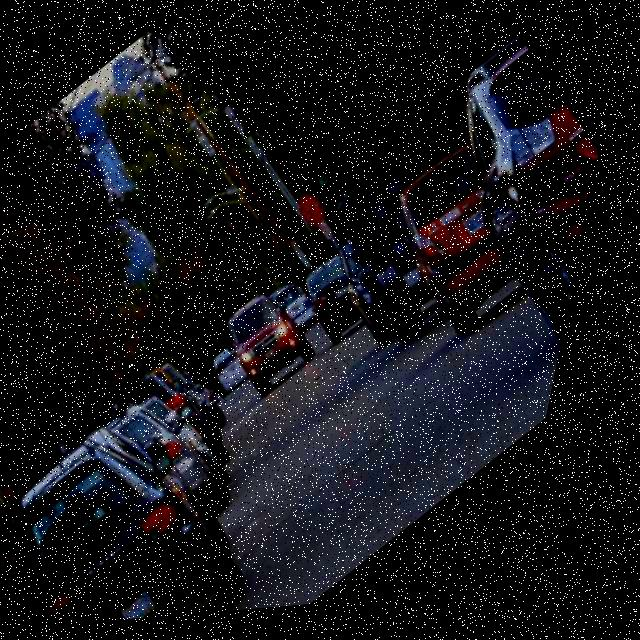license_plate: (134, 586, 192, 624)
